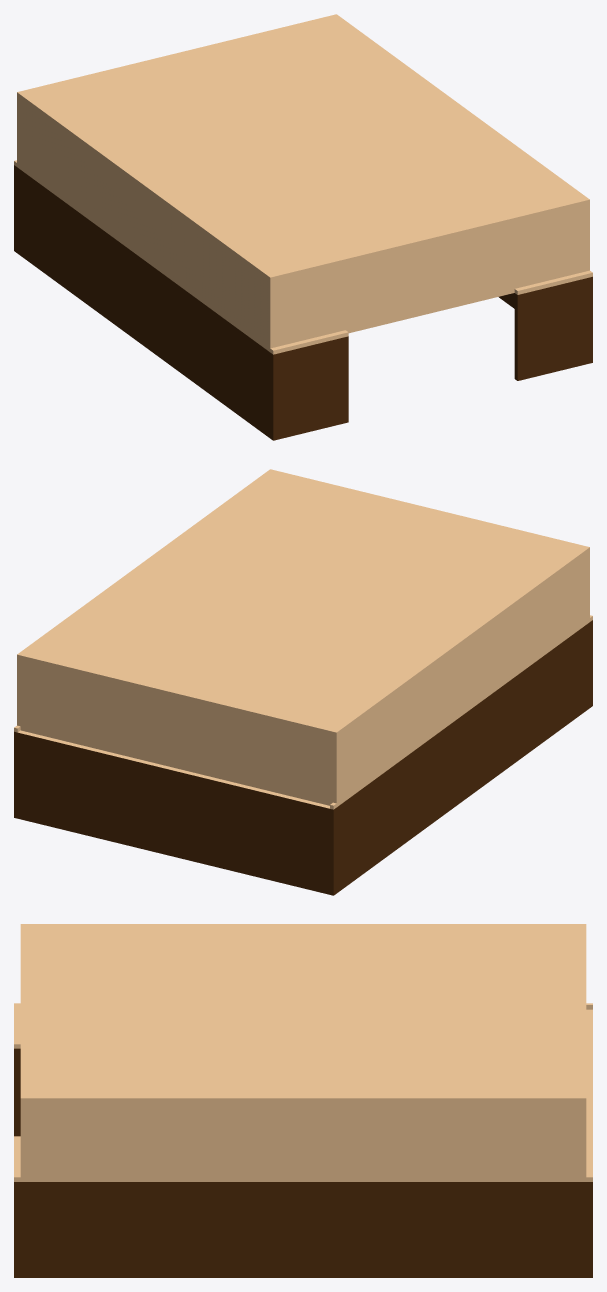
The model's file is Cargo_Storage_2.fbx.
The picture shows the model from 3 angles, top to bottom: view 1: azimuth 30°, elevation 25°; view 2: azimuth 150°, elevation 25°; view 3: azimuth 270°, elevation 25°; orthographic projection. The views are drawn at different scales.
Parts seen in each view (by area): view 1: Cube.141; view 2: Cube.141; view 3: Cube.141.
Boxes of the visible parts, x1=… form: Cube.141: x1=14, y1=14, x2=592, y2=440; Cube.141: x1=14, y1=469, x2=592, y2=895; Cube.141: x1=14, y1=924, x2=592, y2=1277.
Bounding box in the file's own units: 6683 × 3216 × 9389.
